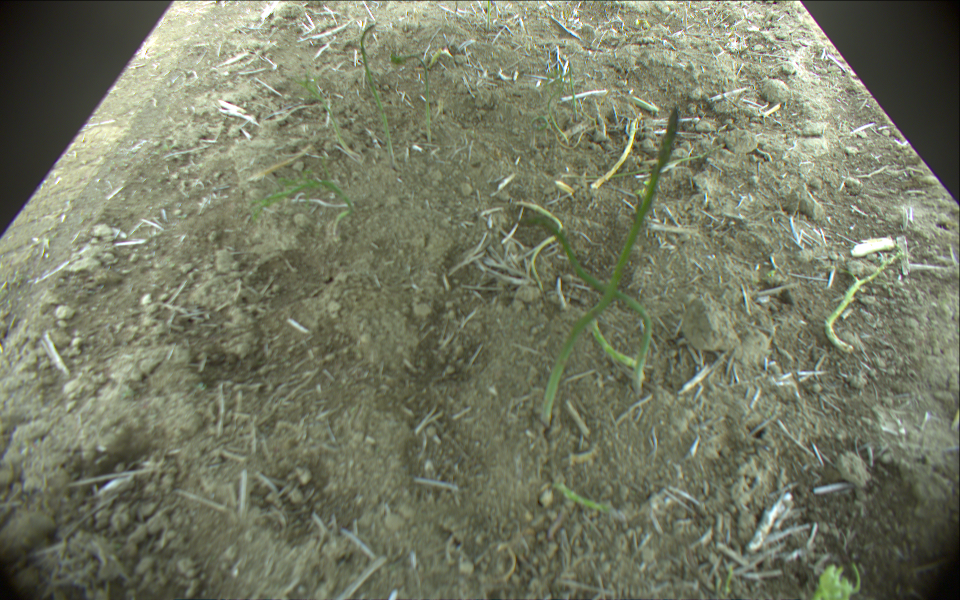aspa: (544, 110, 681, 427), (502, 205, 653, 393), (826, 242, 907, 353), (347, 23, 398, 166), (394, 47, 433, 142), (592, 322, 642, 372), (485, 1, 492, 29)
